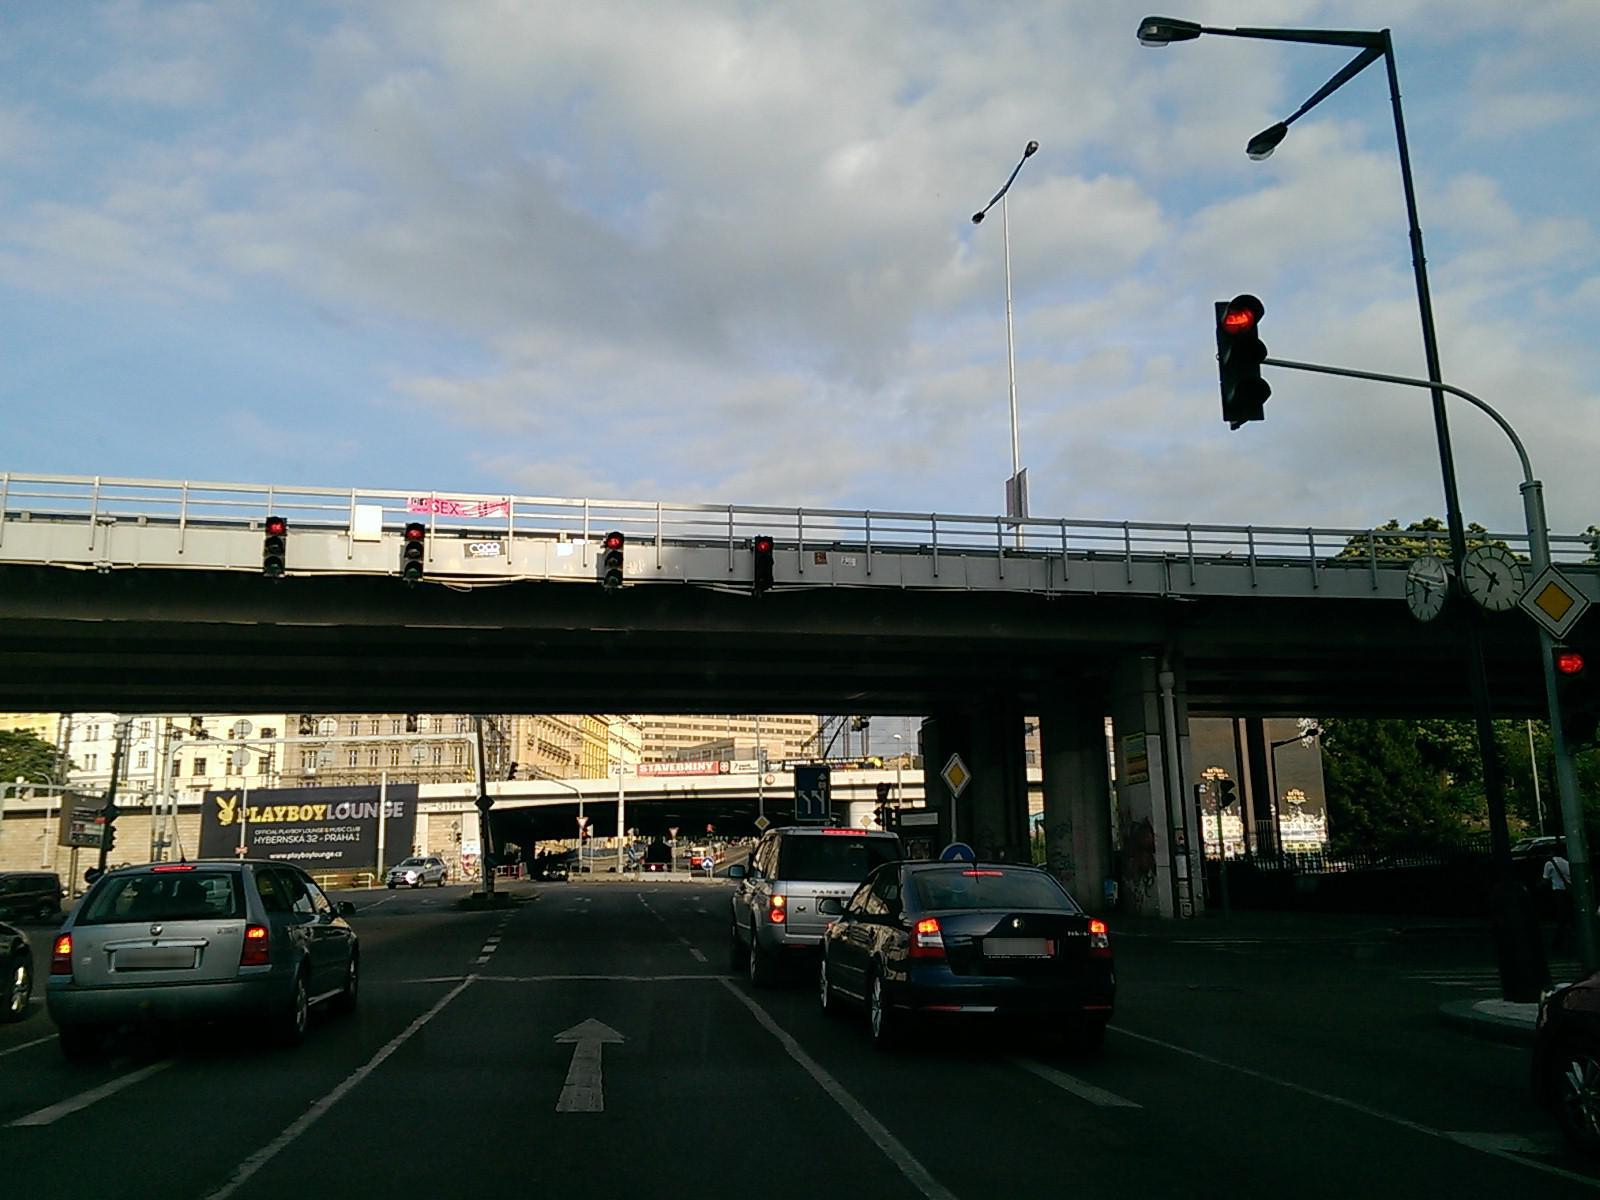vinyl banner: (186, 768, 431, 866), (611, 755, 750, 793), (404, 480, 511, 521)
